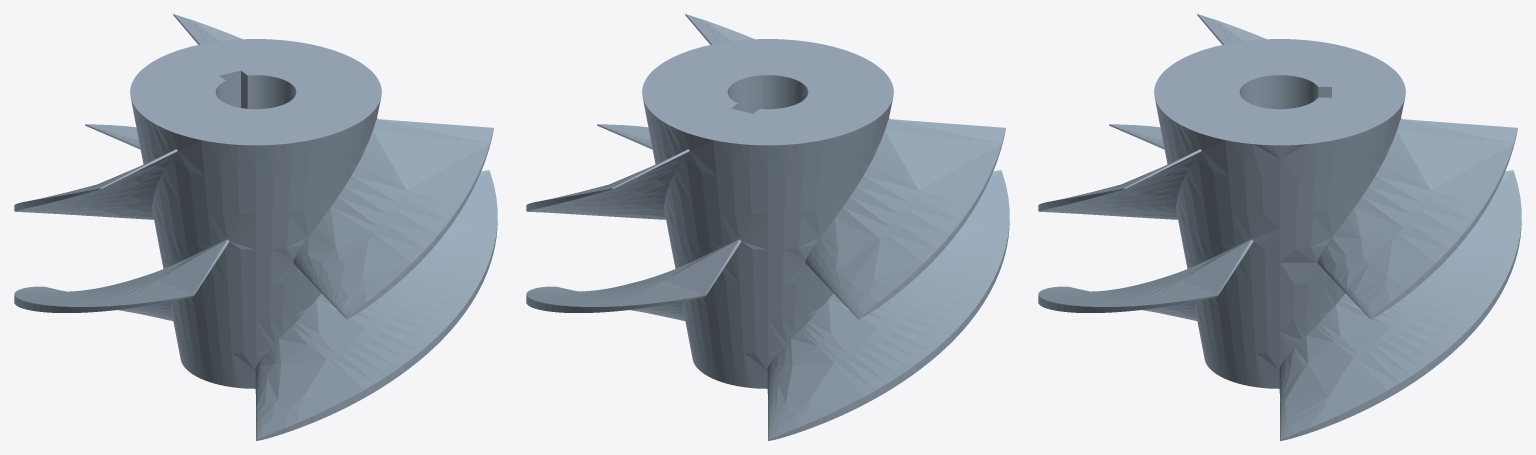
Rendered from t3_tandem_inducer_agy.glb.
3 renders of one model, left to right at view 1: azimuth 30°, elevation 25°; view 2: azimuth 150°, elevation 25°; view 3: azimuth 270°, elevation 25°, orthographic.
Visible parts, largest first — view 1: tandem_inducer; view 2: tandem_inducer; view 3: tandem_inducer.
Part boxes in pixels (box(x1,y1,x2,y2)): tandem_inducer: box(14, 14, 497, 440); tandem_inducer: box(526, 14, 1009, 440); tandem_inducer: box(1038, 14, 1521, 440).
Bounding box in the file's own units: 0.096 × 0.058 × 0.096.
